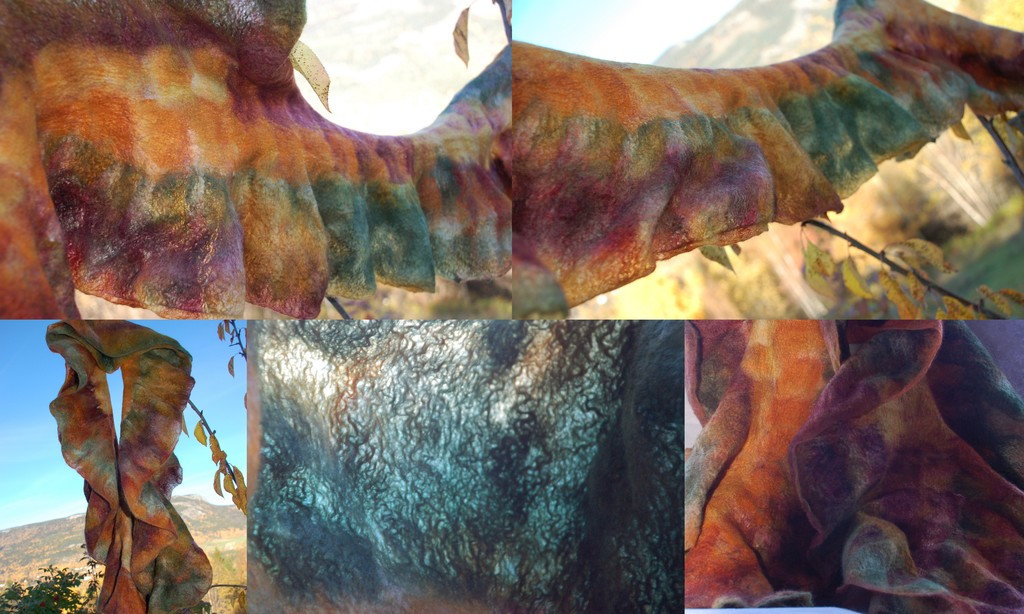Tree: (0, 541, 112, 613)
